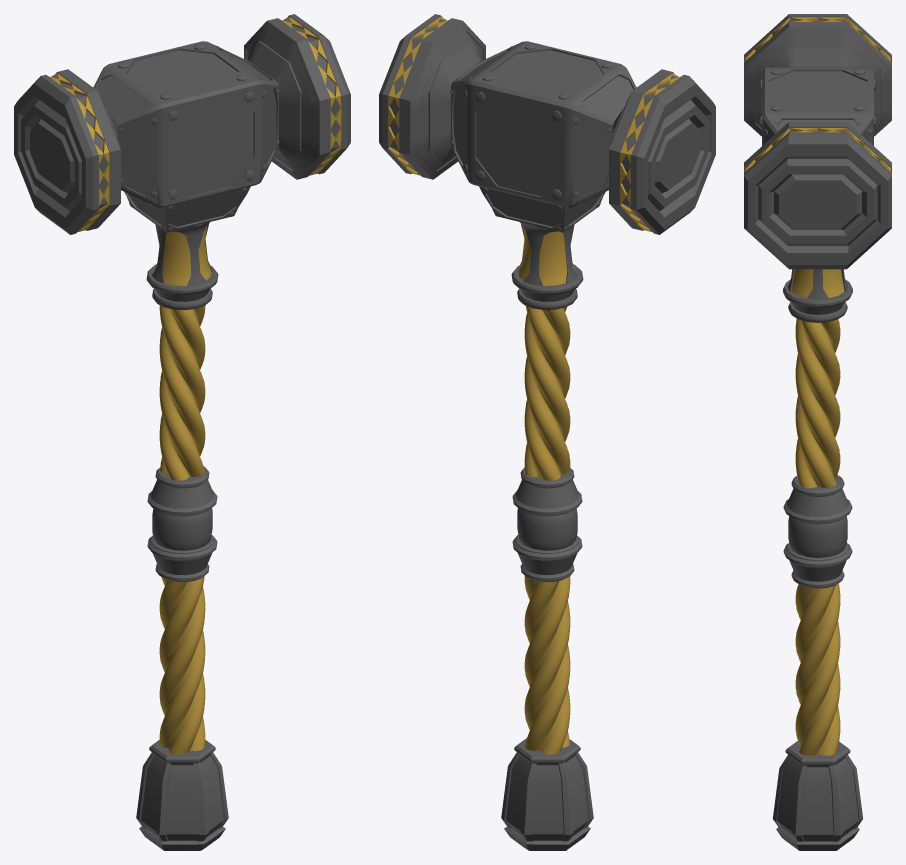
File: Hammer.fbx
The picture shows the model from 3 angles, left to right: view 1: azimuth 30°, elevation 25°; view 2: azimuth 150°, elevation 25°; view 3: azimuth 270°, elevation 25°; orthographic projection. The views are drawn at different scales.
Parts seen in each view (by area): view 1: Head.Med, TopHandle.Med, Pommel.Med, MidHandle.Med, Neck.Med, Head.Med.Detail.002, Head.Med.Detail.001; view 2: Head.Med, TopHandle.Med, Pommel.Med, MidHandle.Med, Neck.Med, Head.Med.Detail.002, Head.Med.Detail.001; view 3: Head.Med, TopHandle.Med, Pommel.Med, MidHandle.Med, Neck.Med, Head.Med.Detail.002, Head.Med.Detail.001.
Part boxes in pixels (x1=…): Head.Med: x1=14, y1=14, x2=350, y2=234; TopHandle.Med: x1=159, y1=305, x2=205, y2=754; Pommel.Med: x1=136, y1=740, x2=228, y2=850; MidHandle.Med: x1=147, y1=466, x2=217, y2=581; Neck.Med: x1=146, y1=222, x2=218, y2=309; Head.Med.Detail.002: x1=49, y1=16, x2=341, y2=232; Head.Med.Detail.001: x1=102, y1=44, x2=279, y2=231; Head.Med: x1=379, y1=14, x2=715, y2=234; TopHandle.Med: x1=524, y1=306, x2=570, y2=754; Pommel.Med: x1=501, y1=738, x2=593, y2=850; MidHandle.Med: x1=512, y1=467, x2=582, y2=581; Neck.Med: x1=511, y1=222, x2=583, y2=309; Head.Med.Detail.002: x1=388, y1=16, x2=680, y2=232; Head.Med.Detail.001: x1=450, y1=44, x2=627, y2=231; Head.Med: x1=744, y1=14, x2=891, y2=269; TopHandle.Med: x1=795, y1=319, x2=840, y2=755; Pommel.Med: x1=772, y1=741, x2=863, y2=850; MidHandle.Med: x1=783, y1=475, x2=852, y2=588; Neck.Med: x1=783, y1=269, x2=852, y2=322; Head.Med.Detail.002: x1=744, y1=17, x2=891, y2=172; Head.Med.Detail.001: x1=758, y1=66, x2=877, y2=135.
Size of the model in its own units: 160 by 451 by 79.2.
